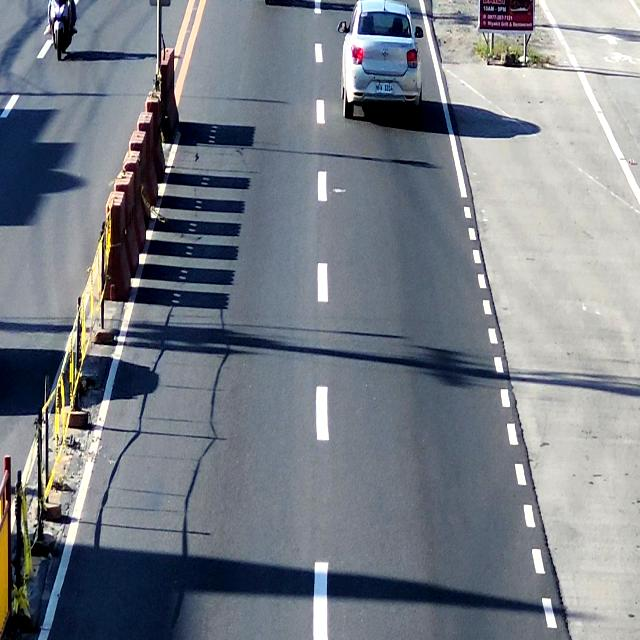Car: (339, 0, 420, 124)
License-Plate: (375, 80, 394, 96)
